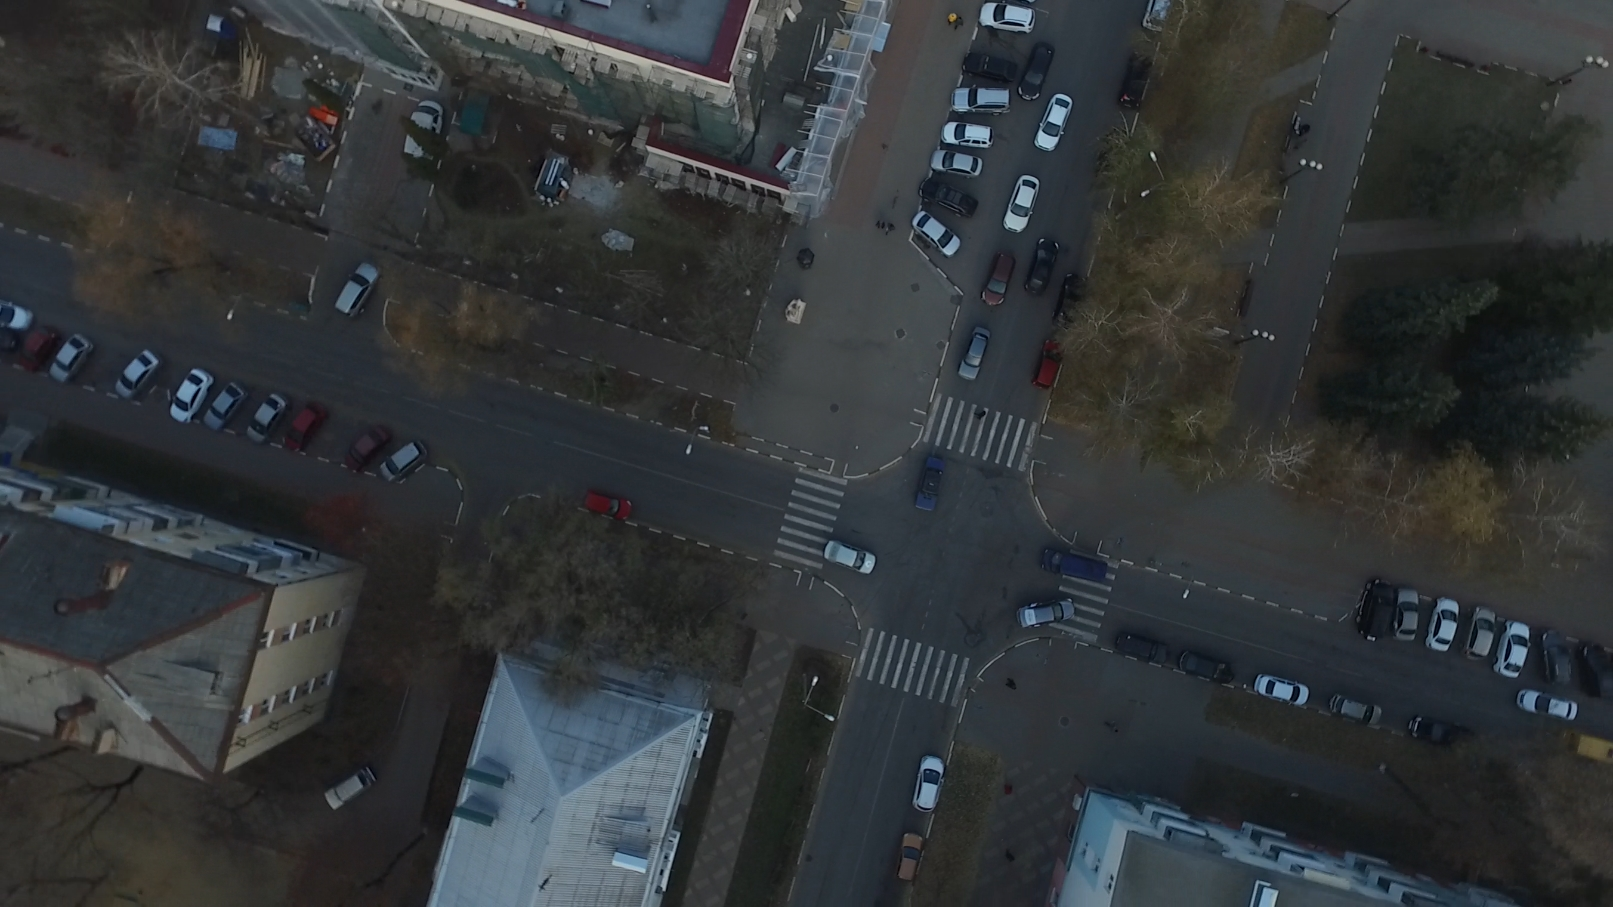car: (322, 765, 380, 815), (333, 262, 381, 321), (167, 368, 215, 426), (399, 97, 443, 158), (111, 349, 162, 400), (976, 250, 1019, 308), (44, 334, 93, 385), (1355, 583, 1397, 641), (1024, 236, 1064, 297), (376, 439, 427, 486), (1046, 550, 1110, 588), (1031, 93, 1071, 153), (1117, 51, 1155, 112), (1410, 714, 1483, 746), (910, 454, 953, 508), (910, 213, 960, 258), (1018, 39, 1055, 101), (341, 426, 391, 472), (1578, 640, 1613, 703), (1560, 726, 1613, 769), (919, 179, 978, 217), (247, 394, 289, 446), (1001, 176, 1040, 233), (1052, 271, 1090, 329), (205, 382, 247, 433), (1538, 628, 1574, 686), (282, 400, 325, 450), (912, 753, 947, 811), (949, 83, 1010, 116), (1517, 691, 1580, 722), (1017, 595, 1078, 627), (1497, 620, 1529, 681), (585, 492, 635, 530), (824, 542, 876, 578), (1465, 605, 1498, 661), (16, 329, 59, 372), (1426, 599, 1461, 651), (1117, 631, 1172, 664), (1180, 651, 1234, 684), (1393, 584, 1422, 643), (1331, 692, 1383, 726), (978, 1, 1032, 33), (957, 328, 993, 377), (1036, 337, 1068, 390), (1255, 674, 1311, 704), (929, 146, 985, 176), (895, 834, 925, 883), (941, 122, 993, 148), (962, 52, 1011, 80), (1141, 1, 1174, 37)
